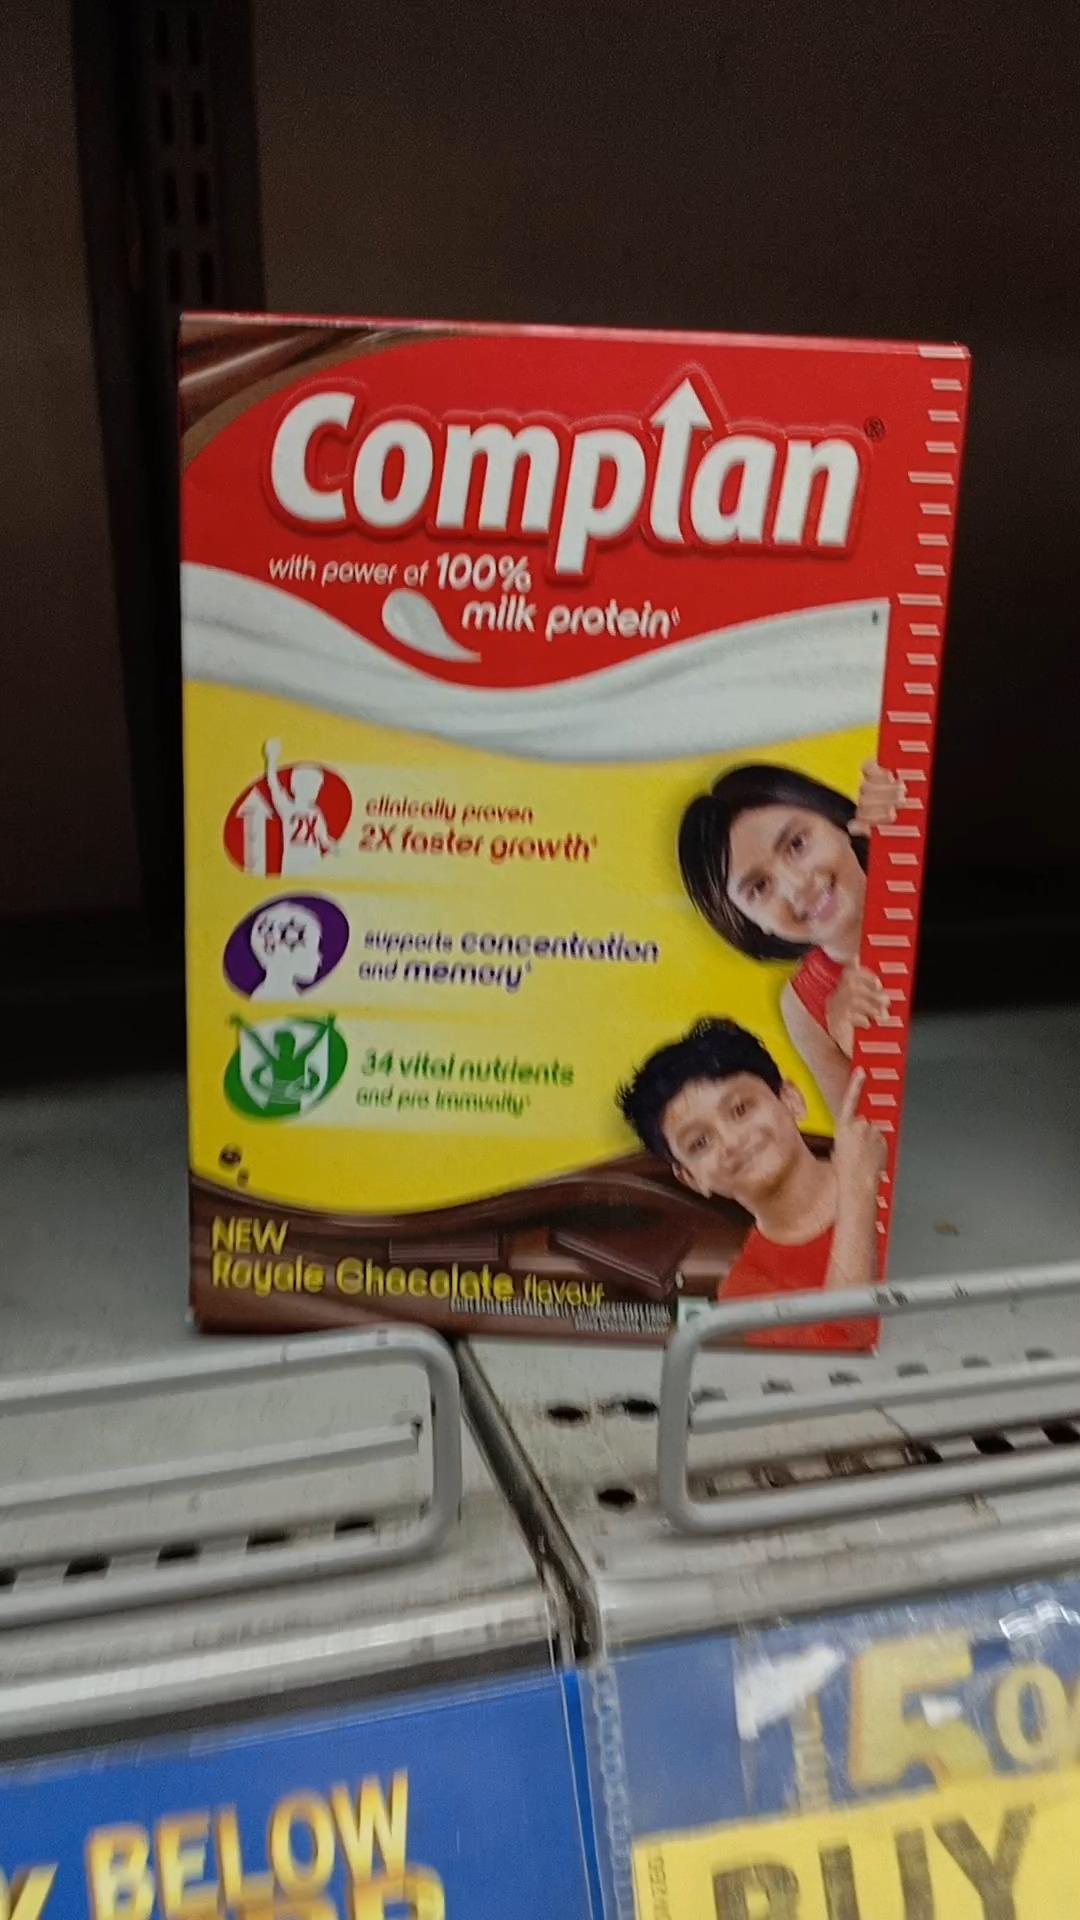COMPLAN_CHOCOLATE_200_GMS_PACK: (190, 324, 895, 1350)
